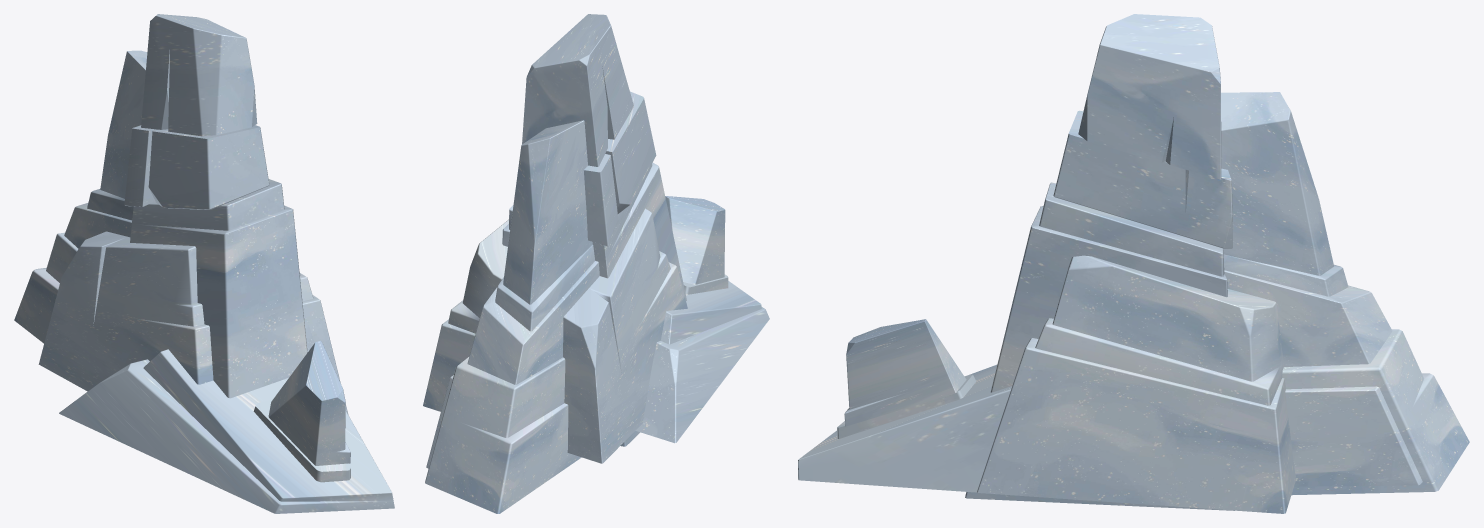
File: P_ENV_rock_snow_09.gltf
The picture shows the model from 3 angles, left to right: view 1: azimuth 30°, elevation 25°; view 2: azimuth 150°, elevation 25°; view 3: azimuth 270°, elevation 25°; orthographic projection. The views are drawn at different scales.
Visible parts, largest first — view 1: SM_ENV_rock_snow_09_LOD0; view 2: SM_ENV_rock_snow_09_LOD0; view 3: SM_ENV_rock_snow_09_LOD0.
Part boxes in pixels (x1=…): SM_ENV_rock_snow_09_LOD0: x1=14, y1=14, x2=394, y2=513; SM_ENV_rock_snow_09_LOD0: x1=423, y1=14, x2=769, y2=513; SM_ENV_rock_snow_09_LOD0: x1=798, y1=14, x2=1469, y2=513.
Bounding box in the file's own units: 8.94 × 14.9 × 19.9.
1 material, 1 textured.
